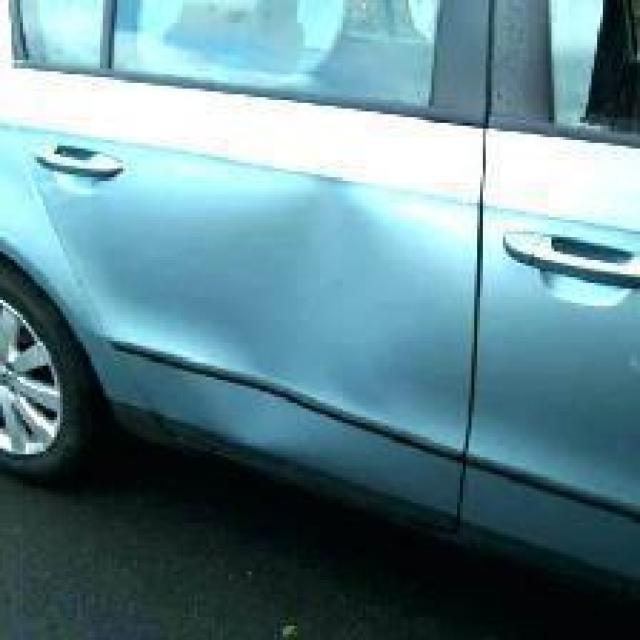damaged: (100, 174, 477, 460)
